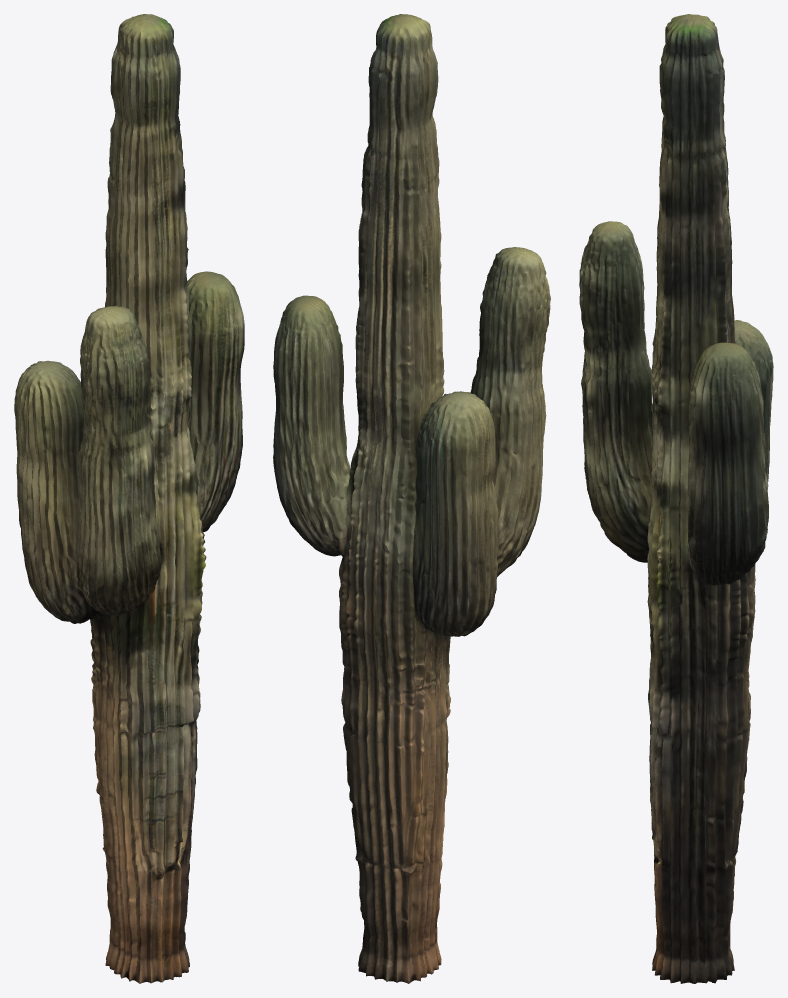
Rendered from TC003_Hyper 3D Rodin 2.glb.
The picture shows the model from 3 angles, left to right: view 1: azimuth 30°, elevation 25°; view 2: azimuth 150°, elevation 25°; view 3: azimuth 270°, elevation 25°; orthographic projection.
Parts seen in each view (by area): view 1: model; view 2: model; view 3: model.
Part boxes in pixels (x1,y1,x2,y2): model: (14, 14, 244, 983); model: (273, 14, 550, 983); model: (579, 14, 773, 983).
Size of the model in its own units: 0.4033 by 1.71 by 0.3169.
Materials: 1 (1 with a texture image).
